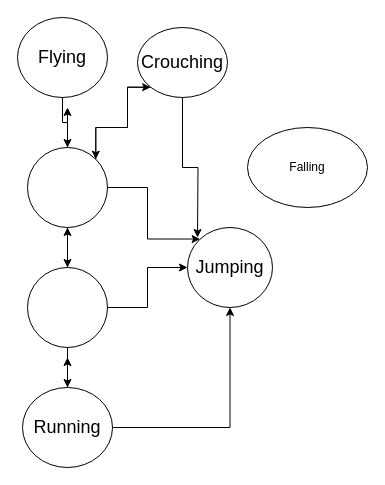
Image size: 385x485. Some labels were removed from this diagram. Here are the shapes that lost their labels. From the top down, the centre of each, then its label:
(67,187): Idle
(67,307): Walking
